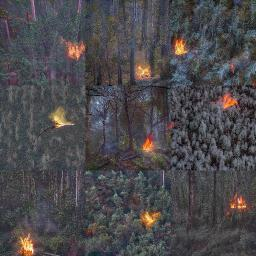Small fire: (48, 110, 72, 128), (18, 235, 38, 256), (67, 42, 88, 61), (170, 37, 189, 56), (229, 194, 249, 212), (142, 210, 161, 228), (220, 92, 237, 110), (136, 63, 153, 79), (141, 136, 154, 151)
